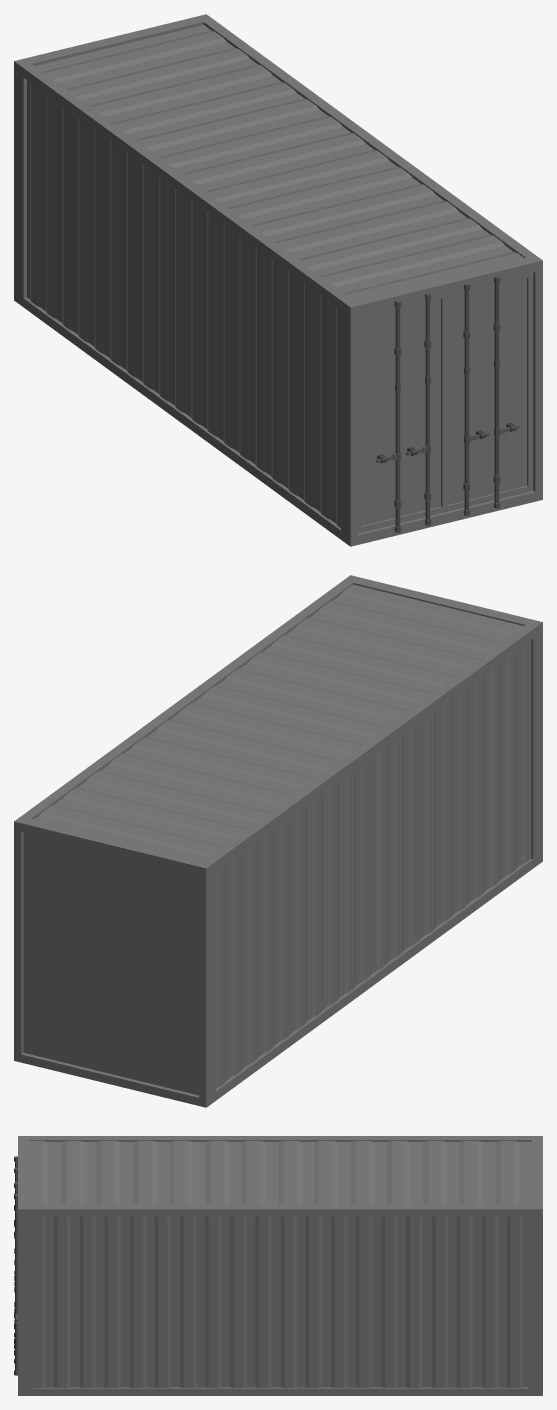
The model's file is Container1-4.fbx.
3 views of the same model, one above another, from view 1: azimuth 30°, elevation 25°; view 2: azimuth 150°, elevation 25°; view 3: azimuth 270°, elevation 25° (orthographic). The views are drawn at different scales.
Parts seen in each view (by area): view 1: Container.003_LOD0; view 2: Container.003_LOD0; view 3: Container.003_LOD0.
Part boxes in pixels (left/top/right/bottom): Container.003_LOD0: left=14, top=14, right=542, bottom=546; Container.003_LOD0: left=14, top=575, right=542, bottom=1107; Container.003_LOD0: left=14, top=1136, right=542, bottom=1395.
Size of what is drawn, in the model's own units: 432 by 513 by 1318.
Materials: 1 (1 with a texture image).
